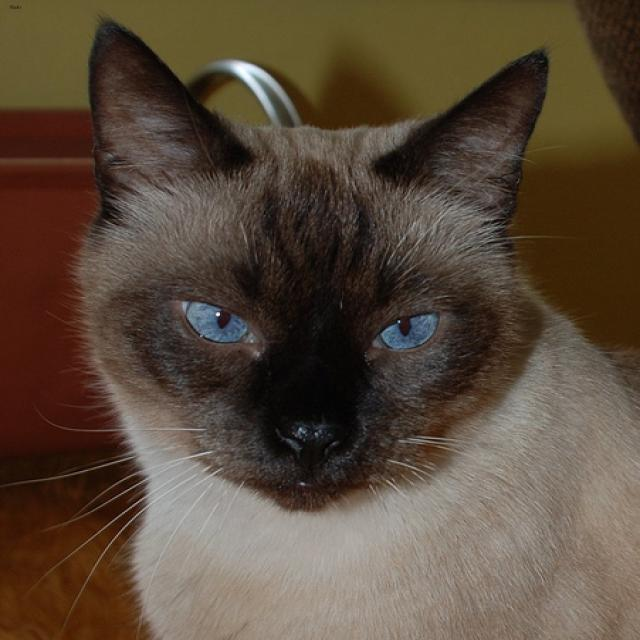Siamese: (87, 16, 548, 510)
